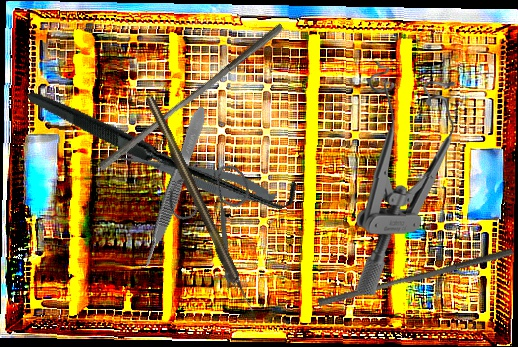Hook Surgical: (26, 5, 304, 288), (144, 94, 256, 316)
Iris Scissors: (142, 144, 297, 297)
Micro Scissor: (111, 137, 280, 213)
Pusher: (97, 16, 285, 177), (317, 239, 514, 315)
Speculum: (351, 59, 461, 296)
Tissue Forceps: (136, 104, 212, 271)
